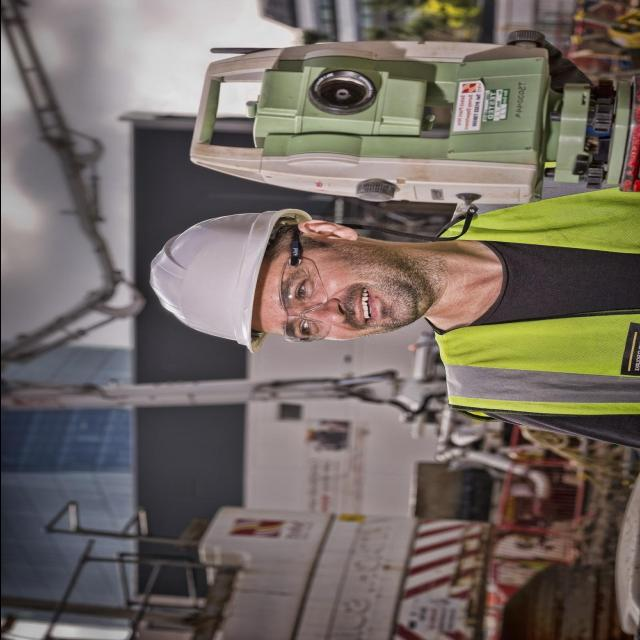helmet: (130, 204, 295, 356)
